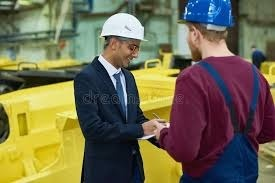helmet: (175, 1, 236, 29), (100, 11, 151, 44)
person with partial safety: (166, 1, 268, 181), (73, 10, 151, 181)
